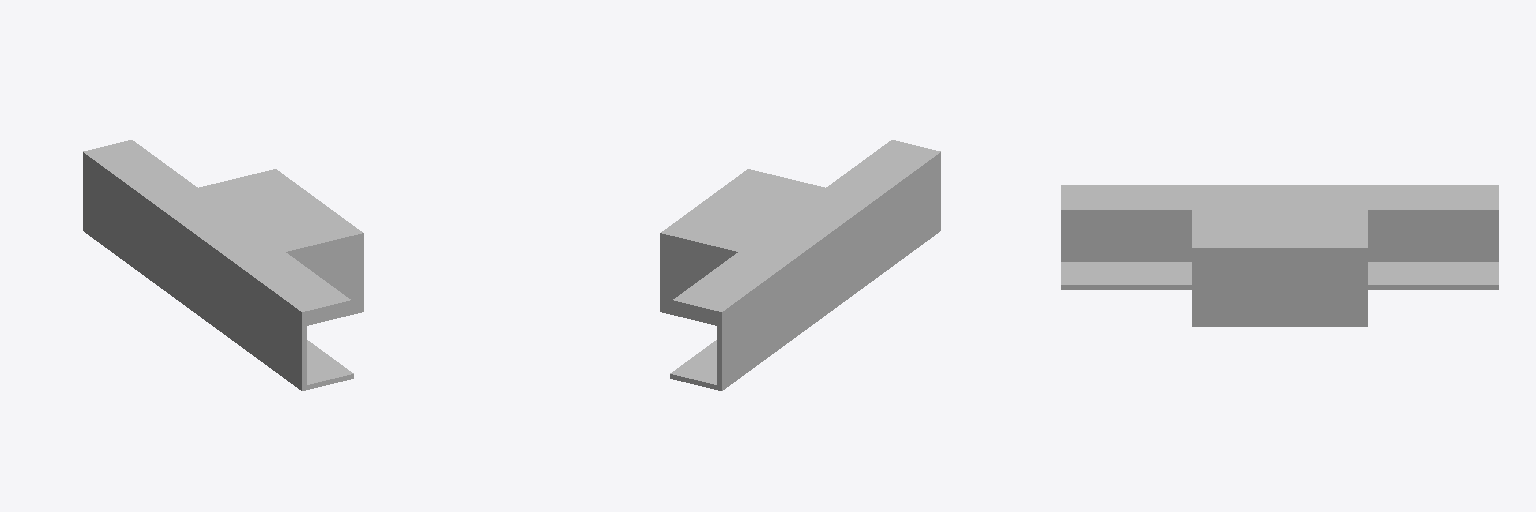
Rendered from room.obj.
The picture shows the model from 3 angles: view 1: azimuth 30°, elevation 25°; view 2: azimuth 150°, elevation 25°; view 3: azimuth 270°, elevation 25°; orthographic projection.
Visible parts, largest first — view 1: Cube_Cube.003; view 2: Cube_Cube.003; view 3: Cube_Cube.003.
Part boxes in pixels (bbox=[...]): Cube_Cube.003: bbox=[83, 140, 363, 390]; Cube_Cube.003: bbox=[660, 140, 940, 390]; Cube_Cube.003: bbox=[1061, 185, 1498, 326].
Bounding box in the file's own units: 27 × 16 × 80.5.